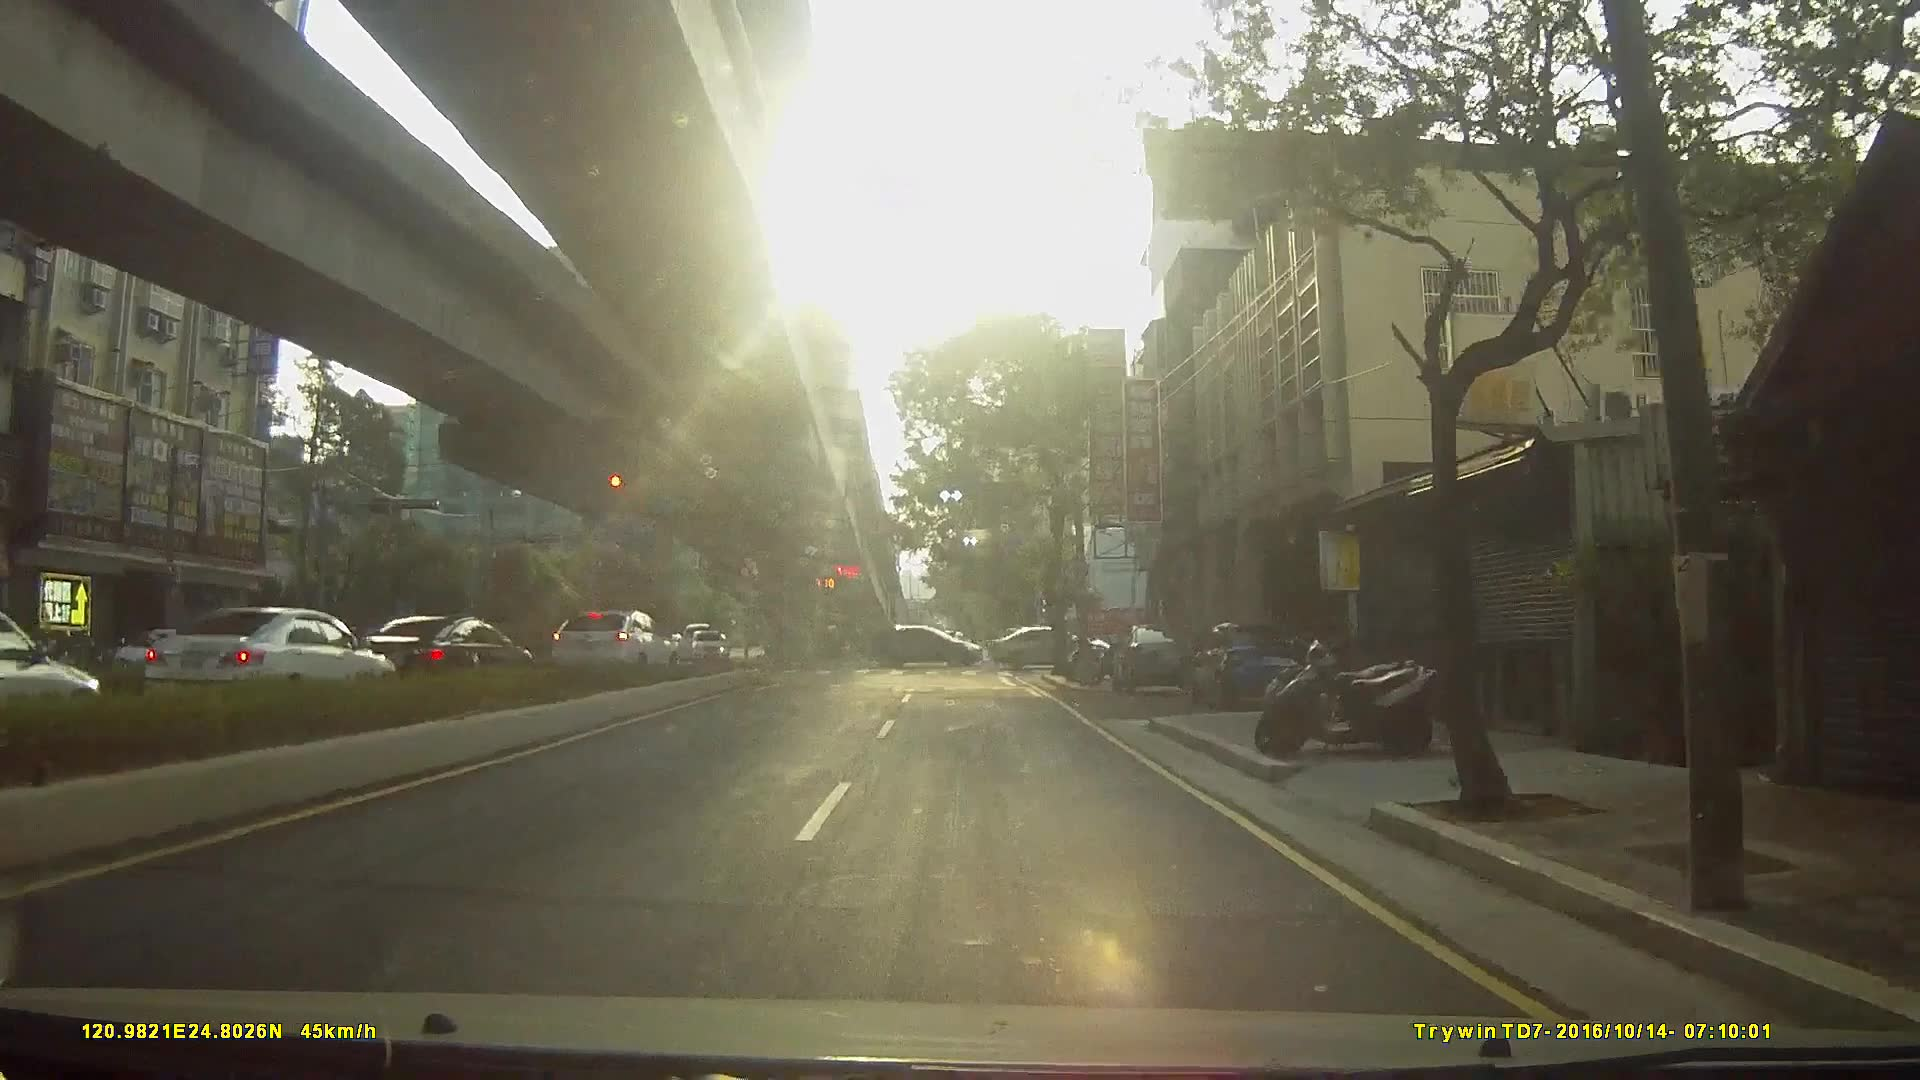vehicle: (123, 605, 386, 711), (349, 612, 530, 688), (1, 611, 105, 737), (1192, 618, 1309, 712), (543, 607, 676, 675), (1109, 618, 1204, 694), (996, 622, 1114, 670), (874, 624, 986, 670), (687, 628, 731, 665)
